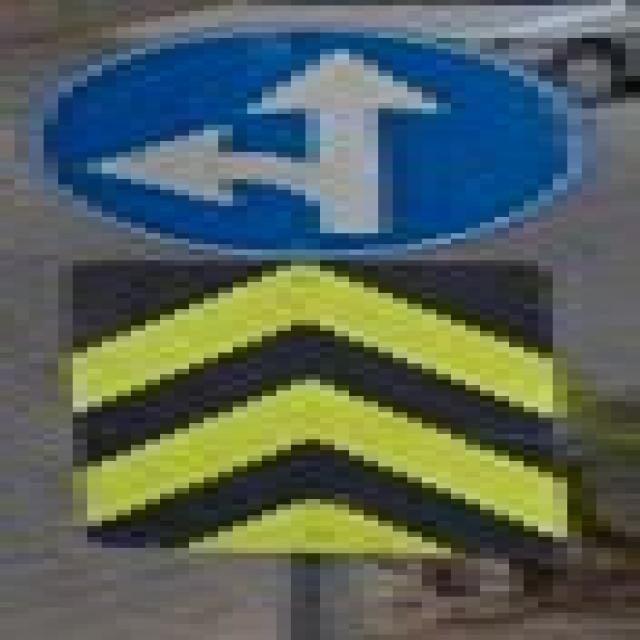Straight or Left: (30, 31, 583, 259)
